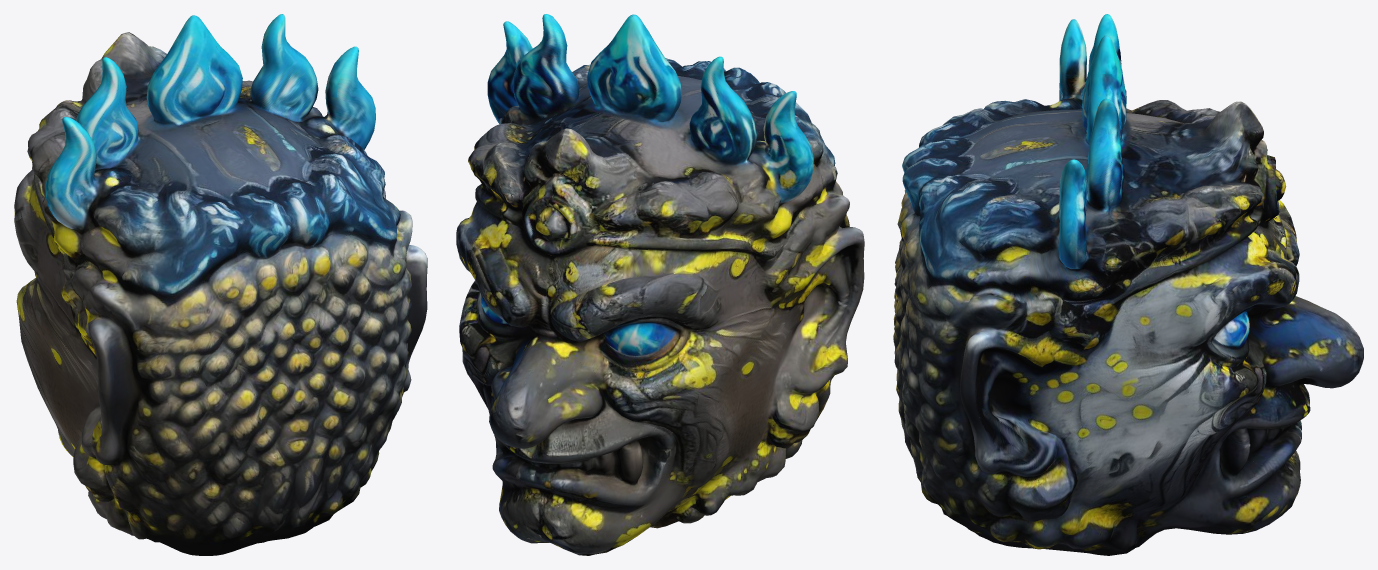
File: penjaga-api-biru.glb
3 renders of one model, left to right at view 1: azimuth 30°, elevation 25°; view 2: azimuth 150°, elevation 25°; view 3: azimuth 270°, elevation 25°, orthographic.
Parts seen in each view (by area): view 1: penjaga-api-biru; view 2: penjaga-api-biru; view 3: penjaga-api-biru.
Boxes of the visible parts, <box> form: penjaga-api-biru: <box>14,14,427,555</box>; penjaga-api-biru: <box>456,14,864,555</box>; penjaga-api-biru: <box>893,14,1363,555</box>.
Bounding box in the file's own units: 0.6974 × 1 × 0.8594.
1 material, 1 textured.
